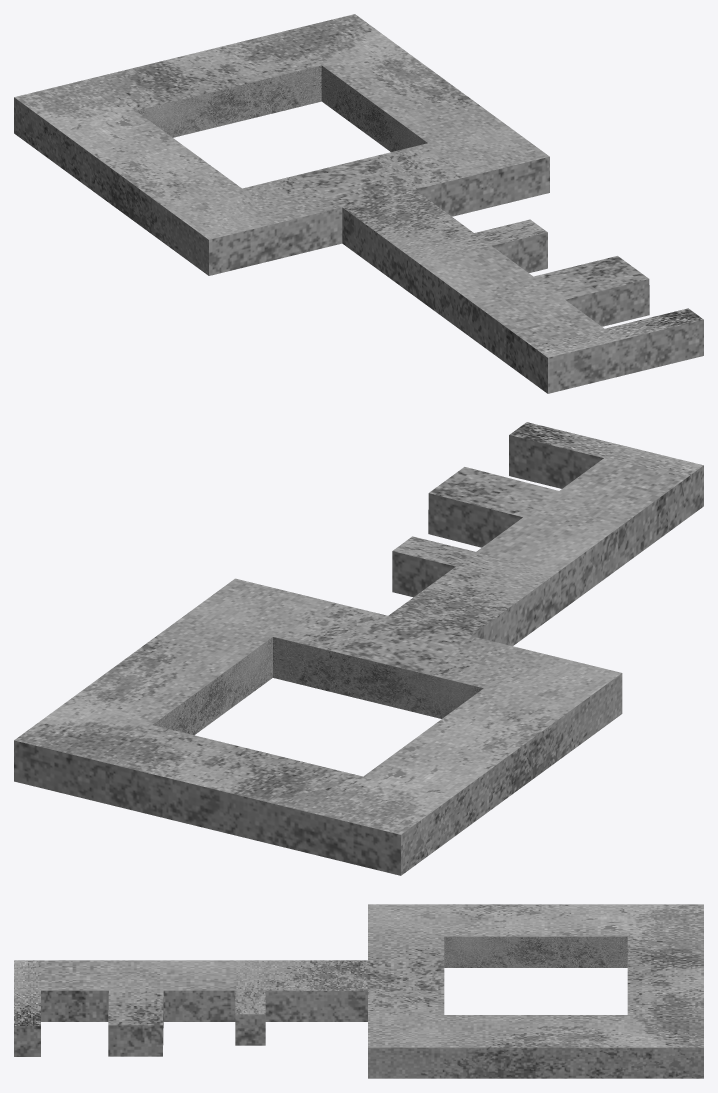
The model's file is keys.fbx.
3 views of the same model, one above another, from view 1: azimuth 30°, elevation 25°; view 2: azimuth 150°, elevation 25°; view 3: azimuth 270°, elevation 25° (orthographic). The views are drawn at different scales.
Visible parts, largest first — view 1: Plane; view 2: Plane; view 3: Plane.
Part boxes in pixels (box(x1,y1,x2,y2)): Plane: box(14, 14, 703, 393); Plane: box(14, 422, 703, 875); Plane: box(14, 904, 703, 1078).
Bounding box in the file's own units: 4.52 × 0.4669 × 9.2.
